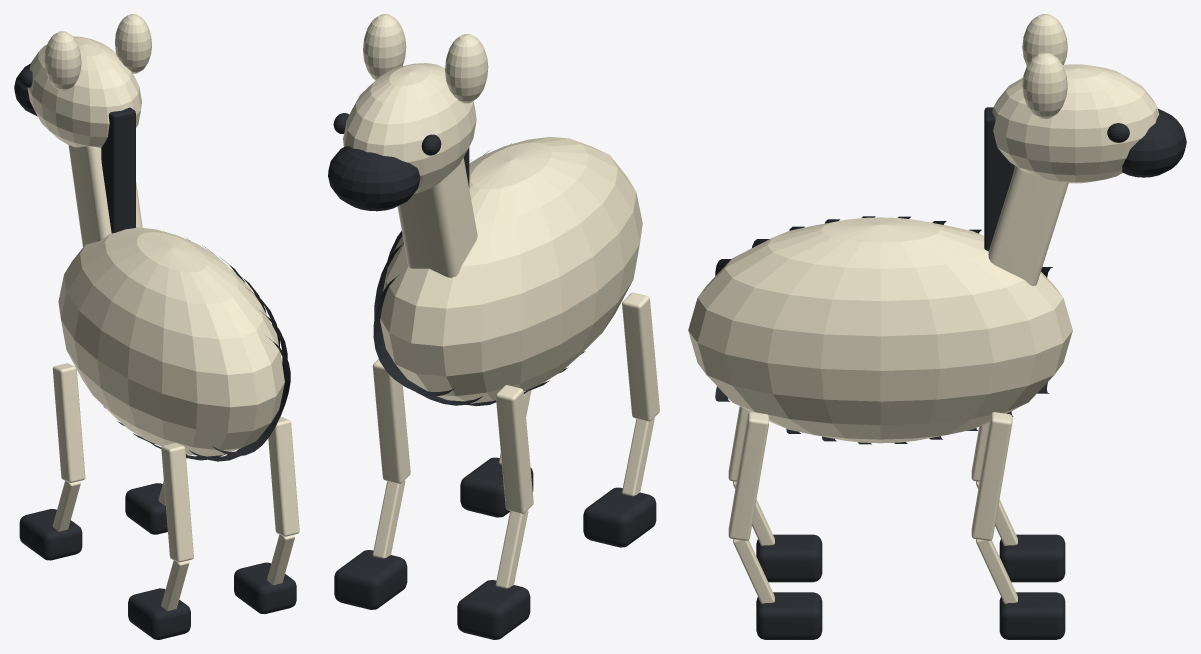
The model's file is zebra.glb.
3 views of the same model, side by side, from view 1: azimuth 30°, elevation 25°; view 2: azimuth 150°, elevation 25°; view 3: azimuth 270°, elevation 25° (orthographic). The views are drawn at different scales.
Visible parts, largest first — view 1: white, dark, white.003, white.001, white.004, dark.001, dark.003, dark.004, dark.002; view 2: white, dark, white.003, white.001, white.002, dark.003, dark.001, dark.002, dark.004; view 3: white, dark, white.002, white.004, dark.004, dark.002, dark.001, dark.003, white.003, white.001.
Part boxes in pixels (<box>): white: <box>27,14,284,456</box>; dark: <box>14,63,290,461</box>; white.003: <box>161,443,193,610</box>; white.001: <box>52,363,85,531</box>; white.004: <box>267,417,299,585</box>; dark.001: <box>19,509,82,560</box>; dark.003: <box>128,588,190,639</box>; dark.004: <box>234,562,296,613</box>; dark.002: <box>125,483,167,534</box>; white: <box>343,14,642,403</box>; dark: <box>328,113,585,406</box>; white.003: <box>622,292,659,496</box>; white.001: <box>495,385,533,588</box>; white.002: <box>372,359,410,558</box>; dark.003: <box>583,487,656,547</box>; dark.001: <box>457,580,530,639</box>; dark.002: <box>334,550,407,609</box>; dark.004: <box>460,457,533,517</box>; white: <box>688,14,1158,443</box>; dark: <box>715,107,1186,444</box>; white.002: <box>971,412,1017,603</box>; white.004: <box>728,412,774,603</box>; dark.004: <box>756,592,822,639</box>; dark.002: <box>999,592,1065,639</box>; dark.001: <box>999,534,1065,582</box>; dark.003: <box>756,534,822,582</box>; white.003: <box>728,406,774,545</box>; white.001: <box>971,422,1017,545</box>.
Bounding box in the file's own units: 0.7684 × 2.48 × 1.97.
